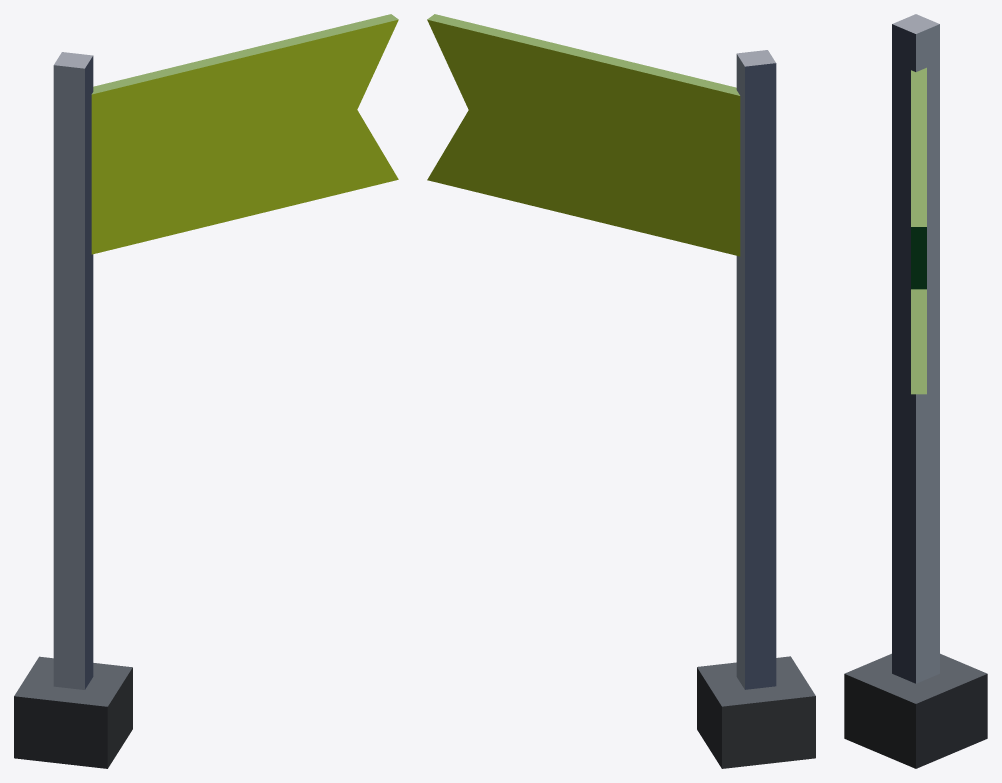
Rendered from TB_CITY_Prop_Frag_B.FBX.
The picture shows the model from 3 angles, left to right: view 1: azimuth 30°, elevation 25°; view 2: azimuth 150°, elevation 25°; view 3: azimuth 270°, elevation 25°; orthographic projection. The views are drawn at different scales.
Visible parts, largest first — view 1: TB_CITY_Prop_Frag_B; view 2: TB_CITY_Prop_Frag_B; view 3: TB_CITY_Prop_Frag_B.
Boxes of the visible parts, x1,y1,x2,y2 form: TB_CITY_Prop_Frag_B: (14, 14, 398, 768); TB_CITY_Prop_Frag_B: (427, 14, 815, 768); TB_CITY_Prop_Frag_B: (844, 14, 987, 768).
Bounding box in the file's own units: 2.33 × 3.98 × 0.7238.
